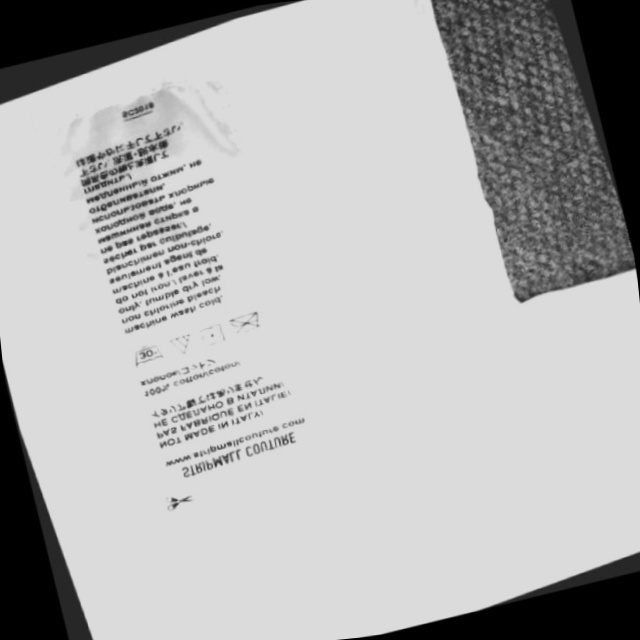30C: (127, 340, 167, 369)
DN_iron: (228, 307, 269, 340)
non_chlorine_bleach: (166, 331, 196, 358)
tumble_dry_low: (192, 321, 229, 349)
